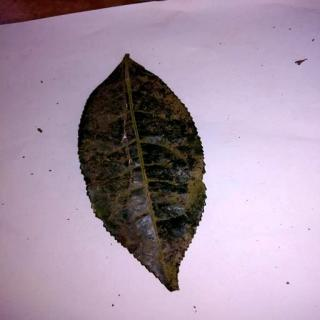Anthracnose: (78, 53, 210, 295)
